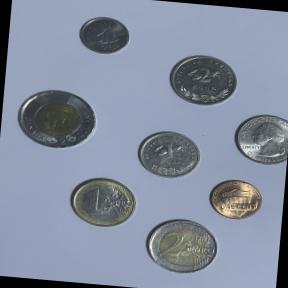coin: (11, 84, 104, 156), (139, 214, 223, 279), (163, 48, 243, 112), (63, 172, 140, 232), (227, 108, 288, 169), (204, 176, 267, 224), (74, 12, 136, 60)
